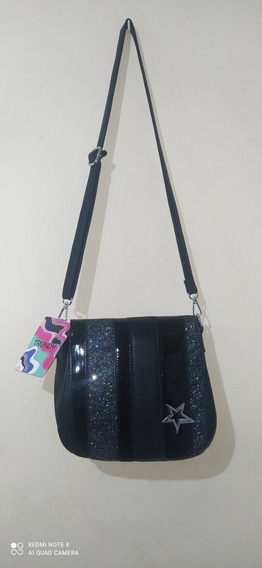cartera: (49, 16, 218, 464)
